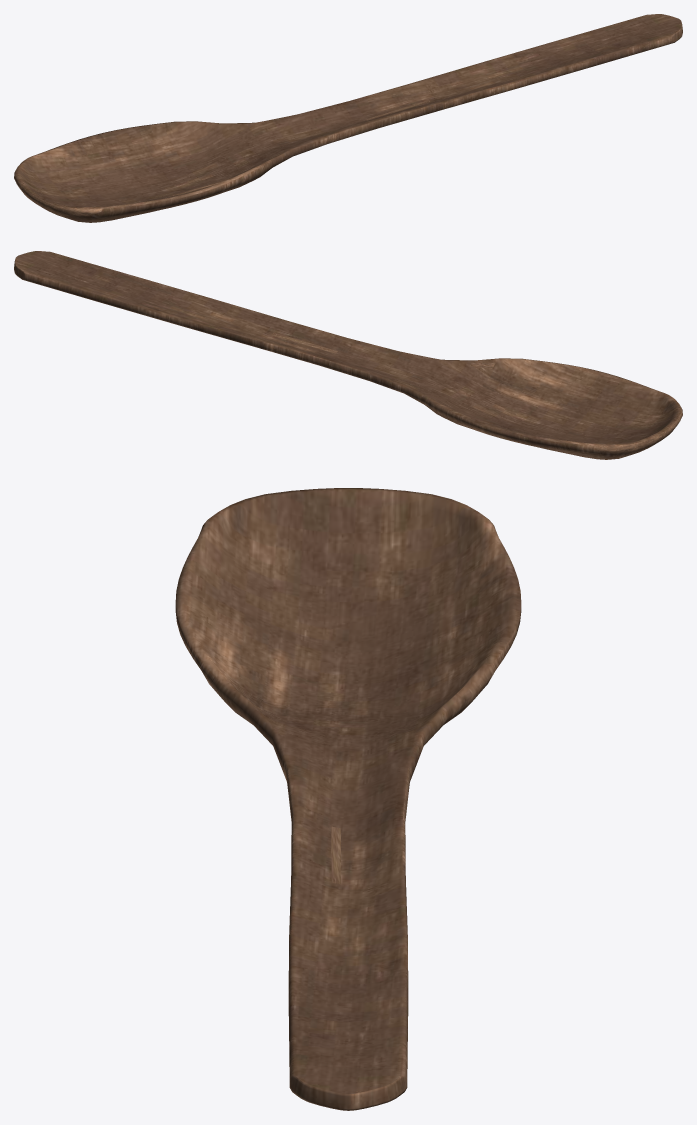
Rendered from spoon.glb.
3 views of the same model, one above another, from view 1: azimuth 30°, elevation 25°; view 2: azimuth 150°, elevation 25°; view 3: azimuth 270°, elevation 25° (orthographic). The views are drawn at different scales.
Parts seen in each view (by area): view 1: Plane001_01 - Default_0; view 2: Plane001_01 - Default_0; view 3: Plane001_01 - Default_0.
Boxes of the visible parts, bbox=[...] form: Plane001_01 - Default_0: bbox=[14, 14, 682, 222]; Plane001_01 - Default_0: bbox=[14, 251, 682, 459]; Plane001_01 - Default_0: bbox=[175, 488, 521, 1110].
Size of the model in its own units: 6.06 by 0.4508 by 1.39.
1 material, 1 textured.
